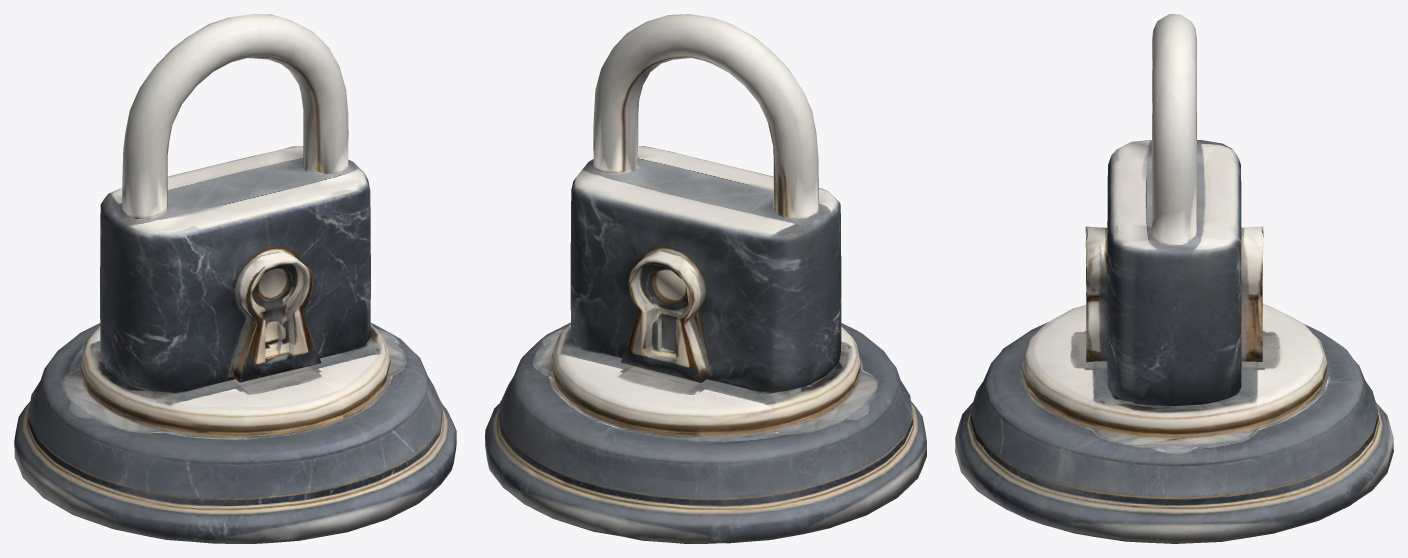
The model's file is testLock.glb.
The picture shows the model from 3 angles, left to right: view 1: azimuth 30°, elevation 25°; view 2: azimuth 150°, elevation 25°; view 3: azimuth 270°, elevation 25°; orthographic projection.
Visible parts, largest first — view 1: Mesh_0; view 2: Mesh_0; view 3: Mesh_0.
Part boxes in pixels (x1,y1,x2,y2): Mesh_0: [14, 14, 456, 543]; Mesh_0: [485, 14, 926, 543]; Mesh_0: [955, 14, 1393, 543].
Size of the model in its own units: 0.9286 by 1 by 0.933.
Materials: 1 (1 with a texture image).
